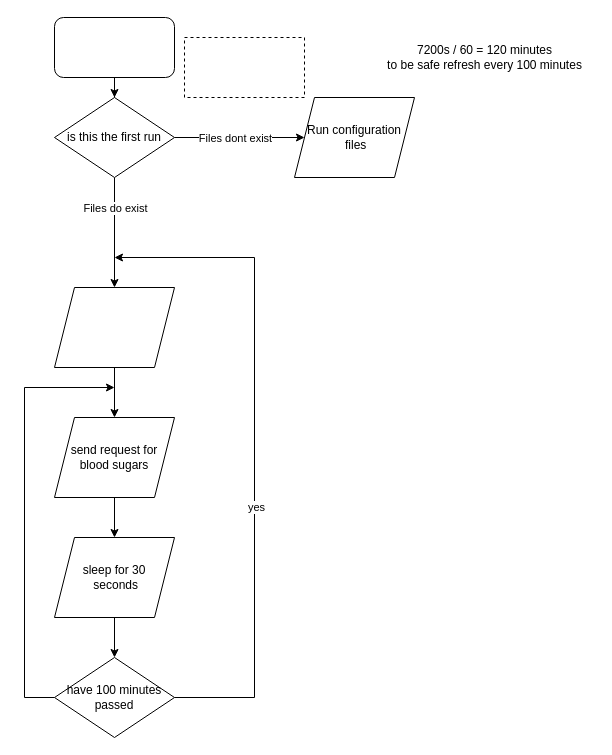
The diagram is 612 pixels wide and 755 high, and some of its shapes have lost their labels. Here are the shapes that lost their labels. From the top down, the centre of each, then its label:
point 114,47: START
point 244,67: Check for config files, if config file exists check for token file
point 114,327: request for new token (refresh)
